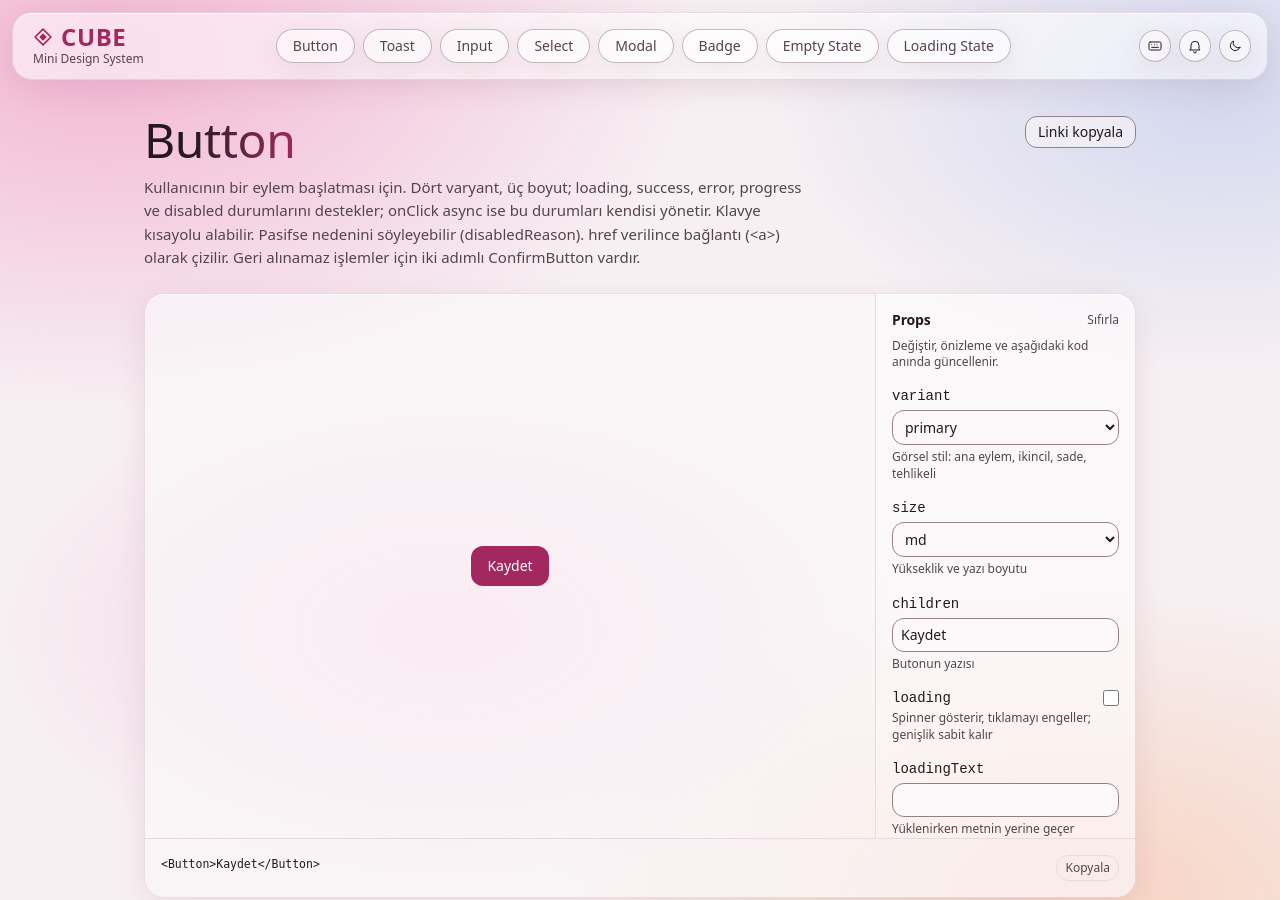
Scenario: Playground sayfası › prop kontrolü önizlemeyi ve üretilen kodu değiştirir
This screenshot has width=1280, height=900.
Select "danger" in the dropdown labelled "variant": coordinates (1006, 428) [892, 410, 1119, 445]
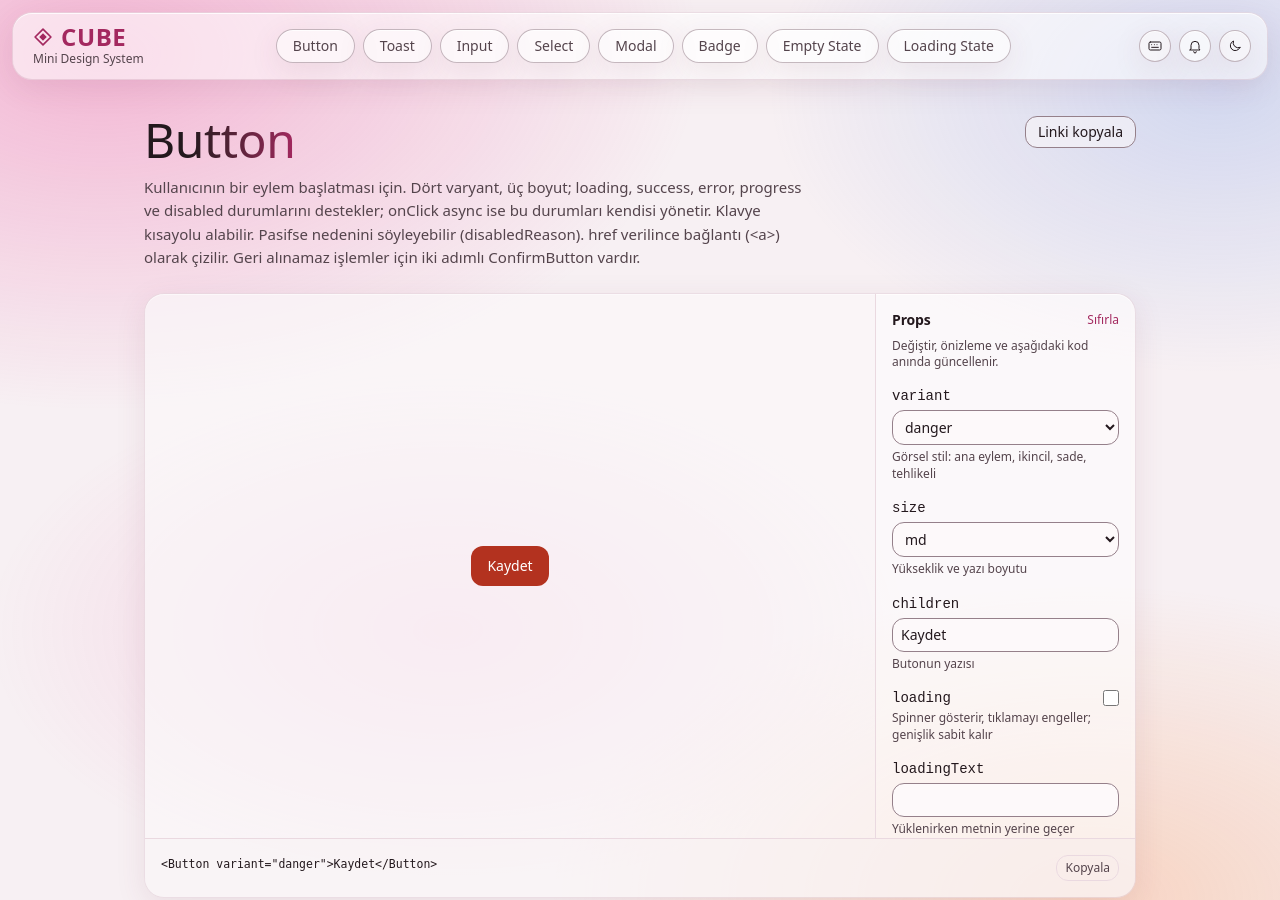
Click the checkbox labelled "loading": coordinates (1111, 698) [1103, 690, 1119, 706]
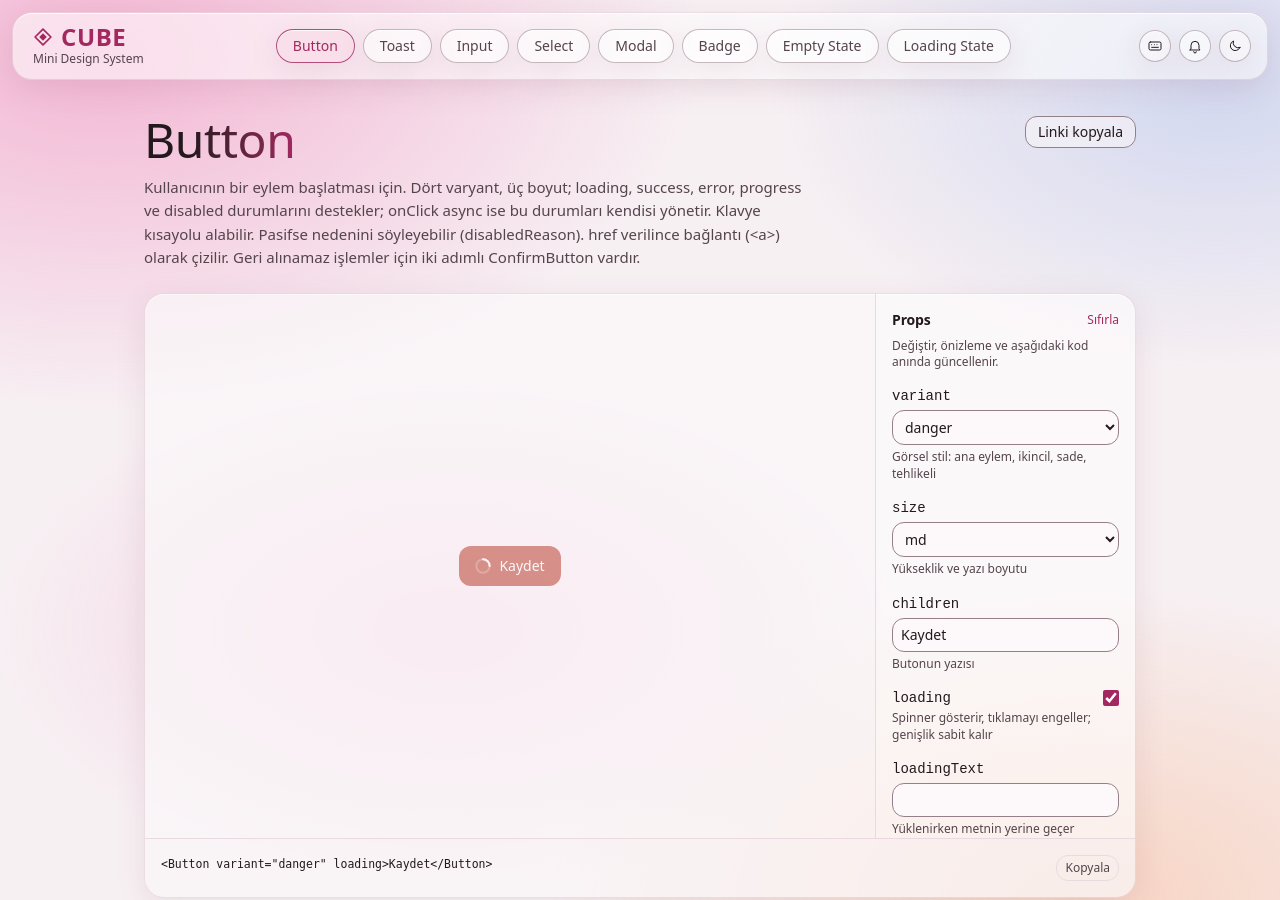
Expected: the text "<Button variant=\"danger\" loading>Kaydet</Button>" is shown, [161, 857, 492, 871]
